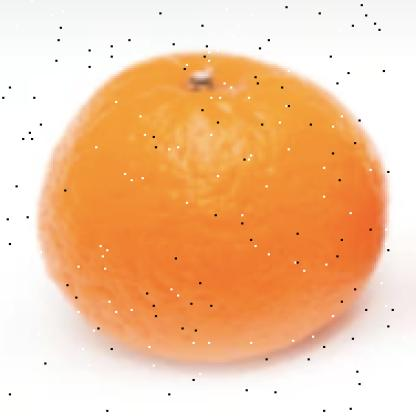fresh: (36, 48, 391, 370)
